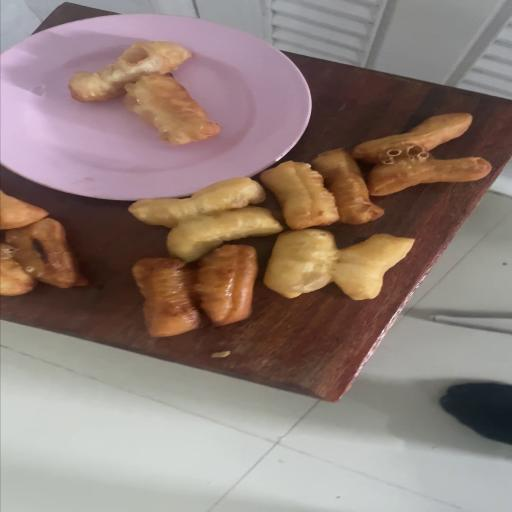street_burnt_defect: (136, 247, 256, 336)
street_golden_good: (69, 42, 216, 144)
